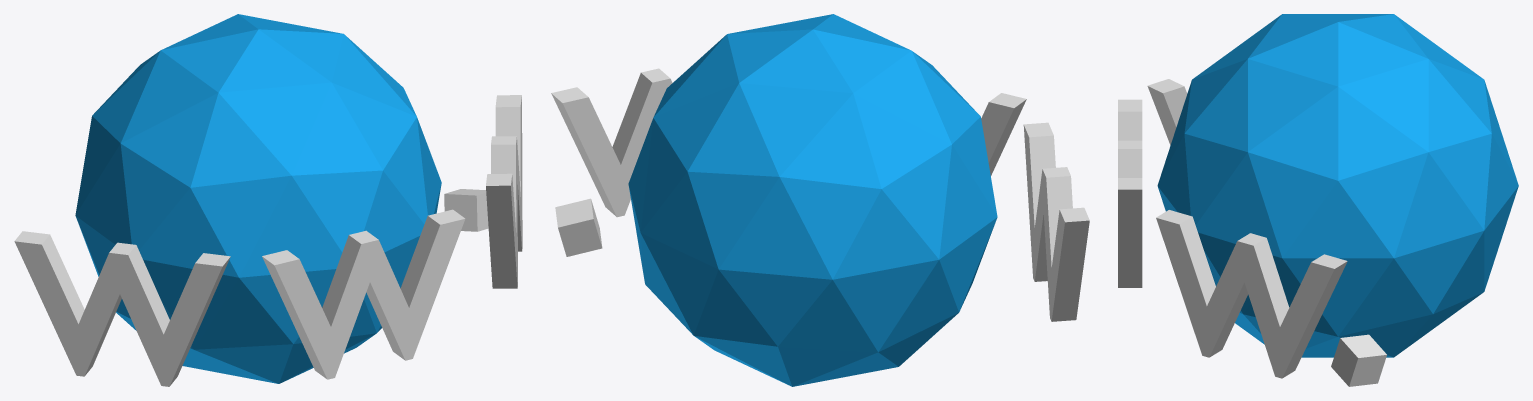
File: Internet.glb
3 views of the same model, side by side, from view 1: azimuth 30°, elevation 25°; view 2: azimuth 150°, elevation 25°; view 3: azimuth 270°, elevation 25° (orthographic). The views are drawn at different scales.
Visible parts, largest first — view 1: internet; view 2: internet; view 3: internet.
Boxes of the visible parts, x1,y1,x2,y2 form: internet: (14,14,522,386); internet: (551,14,1089,386); internet: (1118,14,1518,386).
Size of the model in its own units: 1.16 by 0.7234 by 0.8022.
